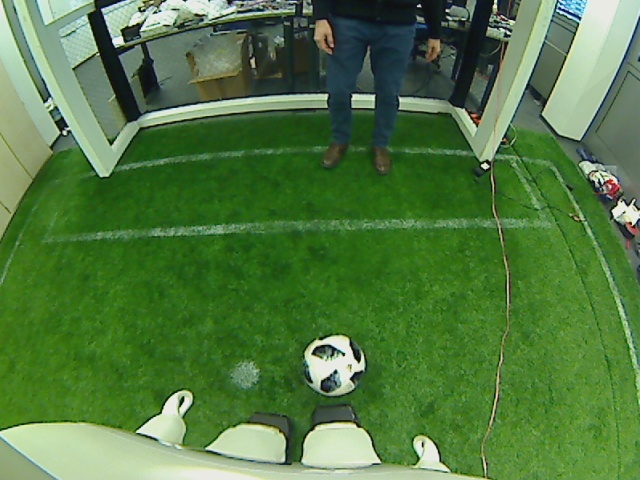ball: (301, 332, 367, 398)
